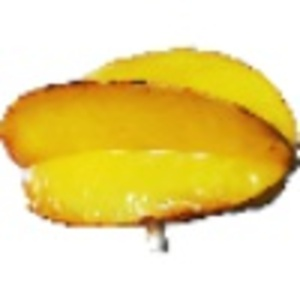carambola: (1, 44, 300, 246)
